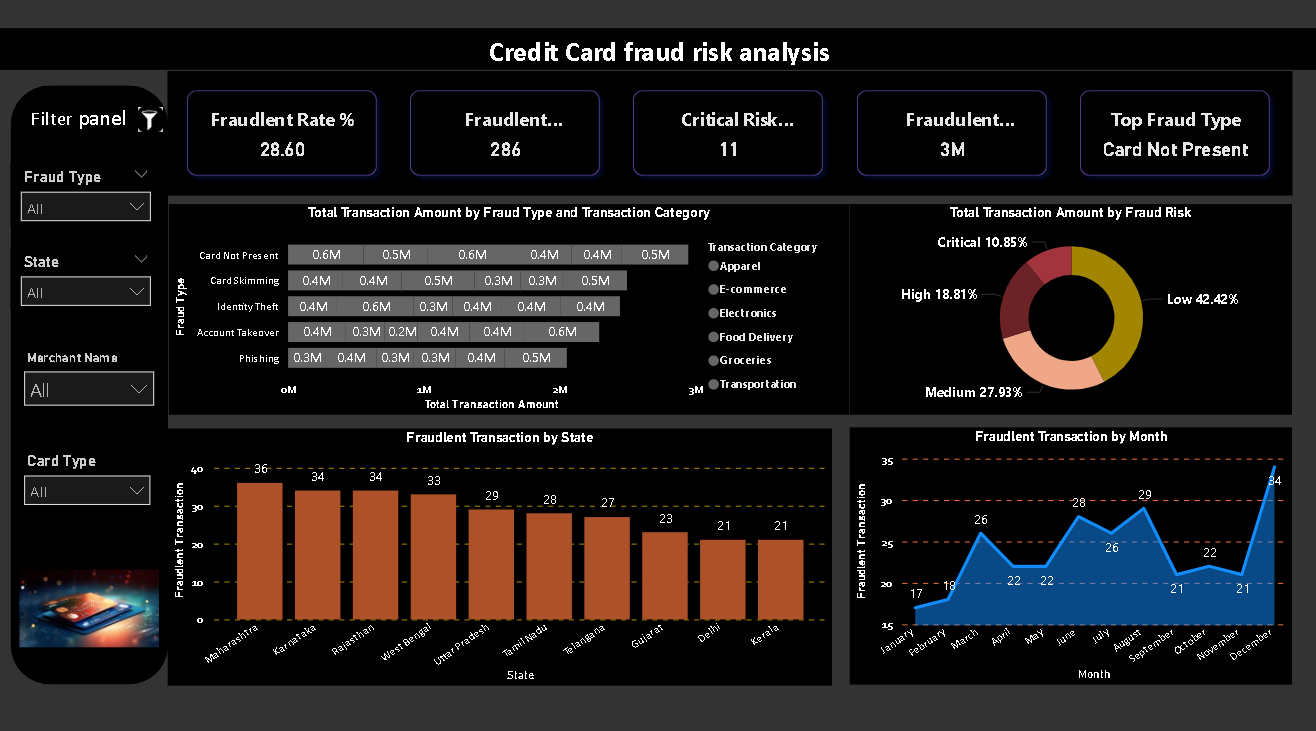

This screenshot's page, from the dashboard's own definition file:
{"tool":"powerbi","page":{"name":"Page 1","canvas":[1280,720],"ordinal":0},"visuals":[{"type":"textbox","box":[0,43.7,1280.3,40.3],"z":0},{"type":"shape","box":[14.4,98.5,151.3,574.1],"z":1},{"type":"textbox","box":[29.9,110.6,109.5,39.8],"z":2},{"type":"image","box":[131.6,110.6,34.3,39.8],"z":4},{"type":"barChart","fields":{"Y":["Credit Card Fraud Risk Analysis.Total Transaction Amount"],"Category":["Credit Card Fraud Risk Analysis.Fraud Type"],"Series":["Credit Card Fraud Risk Analysis.Transaction Category"]},"box":[166.9,211.4,652.2,201.8],"z":5},{"type":"donutChart","fields":{"Y":["Credit Card Fraud Risk Analysis.Total Transaction Amount"],"Category":["Credit Card Fraud Risk Analysis.Fraud Risk"]},"box":[819.1,211.4,424,201.8],"z":6},{"type":"columnChart","fields":{"Y":["Credit Card Fraud Risk Analysis.Fraudlent Transaction"],"Category":["Credit Card Fraud Risk Analysis.State"]},"box":[165.7,426.4,636.6,246.2],"z":7},{"type":"lineChart","fields":{"Y":["Credit Card Fraud Risk Analysis.Fraudlent Transaction"],"Category":["Credit Card Fraud Risk Analysis.Transaction Date.Variation.Date Hierarchy.Month"]},"box":[819,426,424,246],"z":8},{"type":"slicer","fields":{"Values":["Credit Card Fraud Risk Analysis.Fraud Type"]},"box":[14.4,171.8,144.1,61.3],"z":9},{"type":"slicer","fields":{"Values":["Credit Card Fraud Risk Analysis.State"]},"box":[14.4,253.4,144.1,58.9],"z":10},{"type":"slicer","fields":{"Values":["Credit Card Fraud Risk Analysis.Merchant Name"]},"box":[18,347.1,144.1,66.1],"z":11},{"type":"slicer","fields":{"Values":["Credit Card Fraud Risk Analysis.Card Type"]},"box":[18,443.2,140.5,67.3],"z":13},{"type":"image","box":[18,510.4,144.1,179],"z":14},{"type":"cardVisual","fields":{"Data":["Credit Card Fraud Risk Analysis.Fraudlent Rate %","Credit Card Fraud Risk Analysis.Fraudlent Transaction","Credit Card Fraud Risk Analysis.Critical Risk Transaction","Credit Card Fraud Risk Analysis.Fraudulent Transaction Amount","Credit Card Fraud Risk Analysis.Top Fraud Type"]},"box":[165.7,84.1,1077.3,118.9],"z":15}]}

Visuals, with their boxes in screenshot pixels (x1, y1, x2, y2), scaled from the page's 1280x720 canvas onto the 1316x731 screenshot:
textbox: [x1=0, y1=44, x2=1315, y2=85]
shape: [x1=15, y1=100, x2=170, y2=683]
textbox: [x1=31, y1=112, x2=143, y2=153]
image: [x1=135, y1=112, x2=171, y2=153]
barChart - Credit Card Fraud Risk Analysis.Total Transaction Amount x Credit Card Fraud Risk Analysis.Fraud Type: [x1=172, y1=215, x2=842, y2=420]
donutChart - Credit Card Fraud Risk Analysis.Total Transaction Amount x Credit Card Fraud Risk Analysis.Fraud Risk: [x1=842, y1=215, x2=1278, y2=420]
columnChart - Credit Card Fraud Risk Analysis.Fraudlent Transaction x Credit Card Fraud Risk Analysis.State: [x1=170, y1=433, x2=825, y2=683]
lineChart - Credit Card Fraud Risk Analysis.Fraudlent Transaction x Credit Card Fraud Risk Analysis.Transaction Date.Variation.Date Hierarchy.Month: [x1=842, y1=433, x2=1278, y2=682]
slicer - Credit Card Fraud Risk Analysis.Fraud Type: [x1=15, y1=174, x2=163, y2=237]
slicer - Credit Card Fraud Risk Analysis.State: [x1=15, y1=257, x2=163, y2=317]
slicer - Credit Card Fraud Risk Analysis.Merchant Name: [x1=19, y1=352, x2=167, y2=420]
slicer - Credit Card Fraud Risk Analysis.Card Type: [x1=19, y1=450, x2=163, y2=518]
image: [x1=19, y1=518, x2=167, y2=700]
cardVisual - Credit Card Fraud Risk Analysis.Fraudlent Rate % x Credit Card Fraud Risk Analysis.Fraudlent Transaction: [x1=170, y1=85, x2=1278, y2=206]
